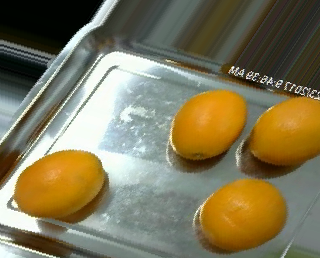Orange: (199, 177, 289, 250), (14, 148, 105, 217), (170, 88, 247, 158), (248, 95, 319, 165)
